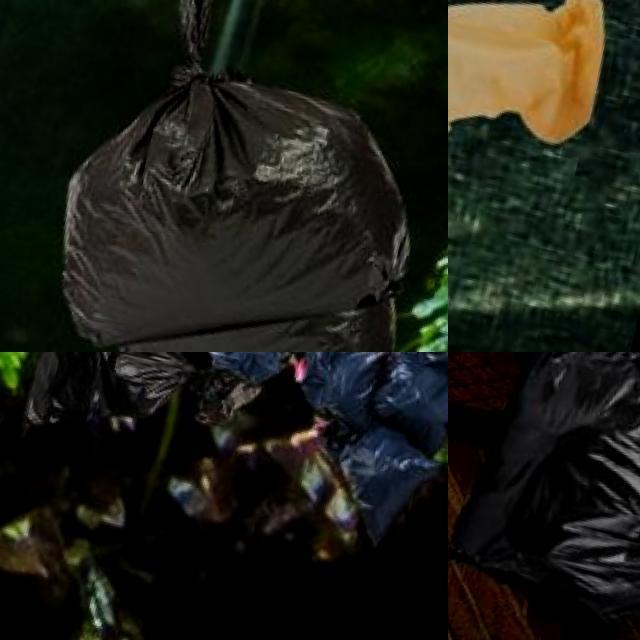waste: (26, 0, 448, 352), (448, 352, 640, 640), (448, 0, 616, 210), (15, 352, 273, 471), (314, 425, 444, 563), (359, 355, 448, 456), (283, 352, 391, 423)
